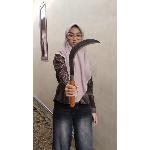Celurit: (65, 36, 104, 108)
